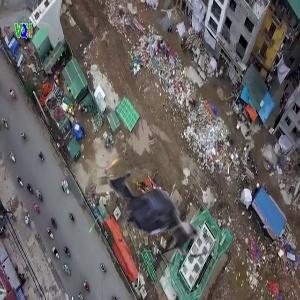drone: (86, 132, 235, 281)
